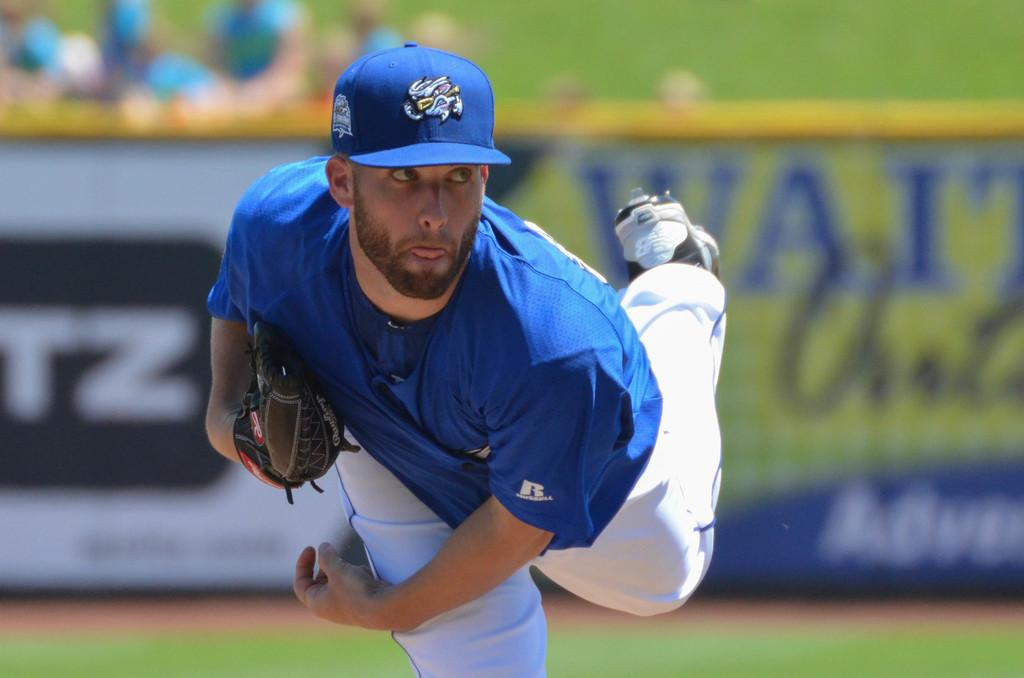Hat: (329, 35, 509, 171)
